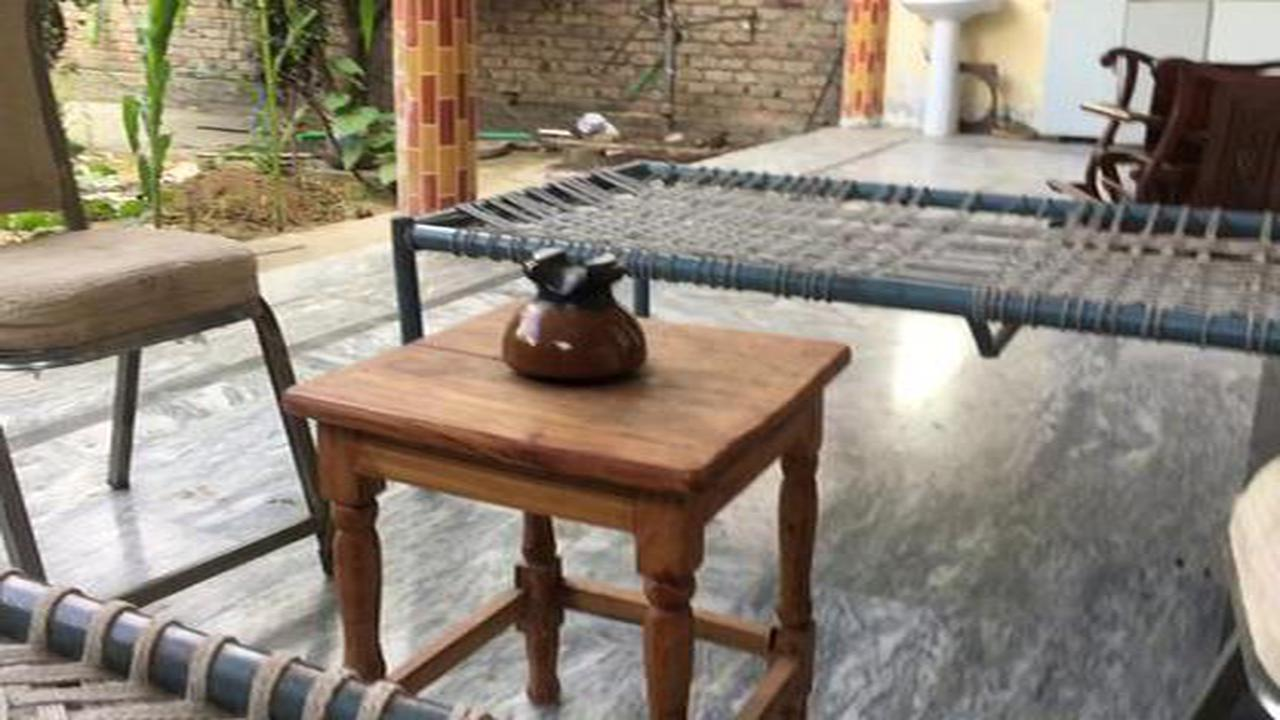insulator_pin: (487, 227, 665, 392)
